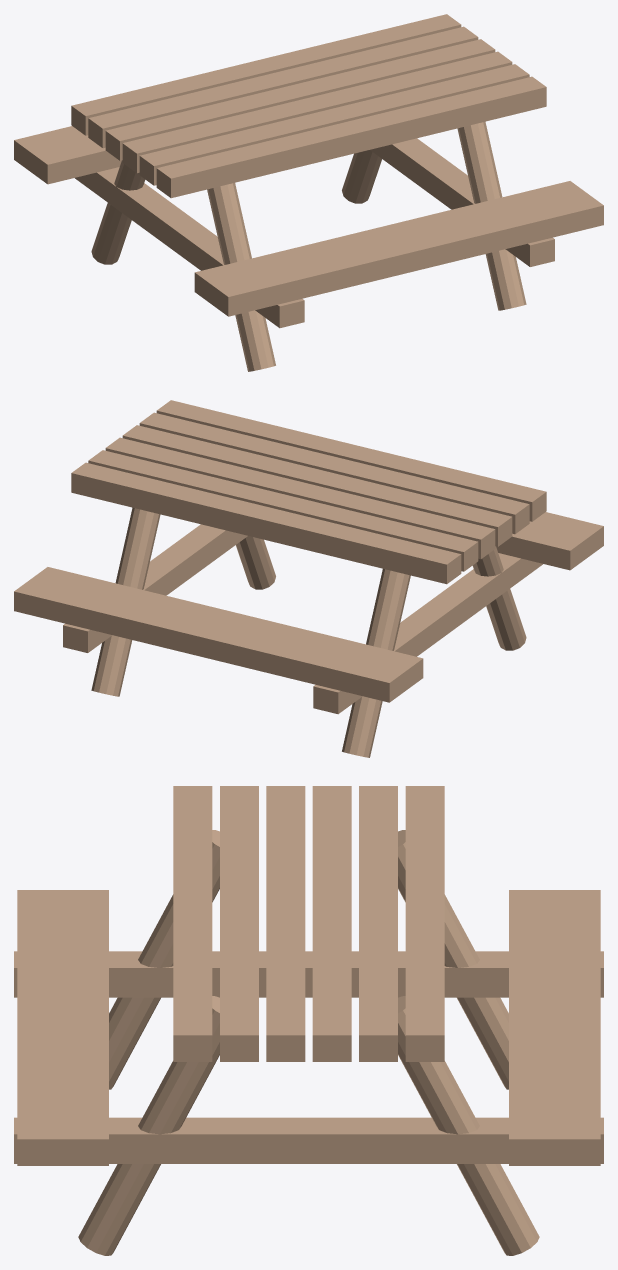
The model's file is picnic_table.glb.
3 views of the same model, one above another, from view 1: azimuth 30°, elevation 25°; view 2: azimuth 150°, elevation 25°; view 3: azimuth 270°, elevation 25° (orthographic). The views are drawn at different scales.
Parts seen in each view (by area): view 1: picnic_table_006, picnic_table_000, picnic_table_001, picnic_table_002, picnic_table_004, picnic_table_005, picnic_table_003, picnic_table_010, picnic_table_013, picnic_table_008, picnic_table_011, picnic_table_007 (+2 smaller); view 2: picnic_table_007, picnic_table_005, picnic_table_003, picnic_table_004, picnic_table_000, picnic_table_001, picnic_table_002, picnic_table_010, picnic_table_013, picnic_table_009, picnic_table_012, picnic_table_006 (+2 smaller); view 3: picnic_table_006, picnic_table_007, picnic_table_013, picnic_table_000, picnic_table_002, picnic_table_003, picnic_table_005, picnic_table_001, picnic_table_004, picnic_table_011, picnic_table_012, picnic_table_010 (+2 smaller).
Boxes of the visible parts, x1,y1,x2,y2 form: picnic_table_006: (194,181,603,316); picnic_table_000: (156,76,546,198); picnic_table_001: (139,64,529,185); picnic_table_002: (122,51,512,173); picnic_table_004: (88,26,478,148); picnic_table_005: (71,14,461,135); picnic_table_003: (105,39,495,160); picnic_table_010: (75,167,304,328); picnic_table_013: (370,138,554,266); picnic_table_008: (207,183,275,371); picnic_table_011: (457,121,526,310); picnic_table_007: (14,126,121,184); picnic_table_007: (14,567,423,702); picnic_table_005: (71,462,461,584); picnic_table_003: (105,437,495,559); picnic_table_004: (88,450,478,571); picnic_table_000: (156,400,546,521); picnic_table_001: (139,412,529,534); picnic_table_002: (122,425,512,546); picnic_table_010: (313,553,542,714); picnic_table_013: (63,524,247,652); picnic_table_009: (342,569,410,757); picnic_table_012: (91,507,160,696); picnic_table_006: (496,512,603,570); picnic_table_006: (17,890,108,1165); picnic_table_007: (509,890,600,1165); picnic_table_013: (14,1117,603,1163); picnic_table_000: (173,786,212,1061); picnic_table_002: (266,786,305,1061); picnic_table_003: (312,786,351,1061); picnic_table_005: (405,786,444,1061); picnic_table_001: (220,786,258,1061); picnic_table_004: (359,786,397,1061); picnic_table_011: (78,996,219,1255); picnic_table_012: (398,996,539,1255); picnic_table_010: (14,951,603,997).
Size of the model in its own units: 1.8 by 0.8713 by 1.8.
